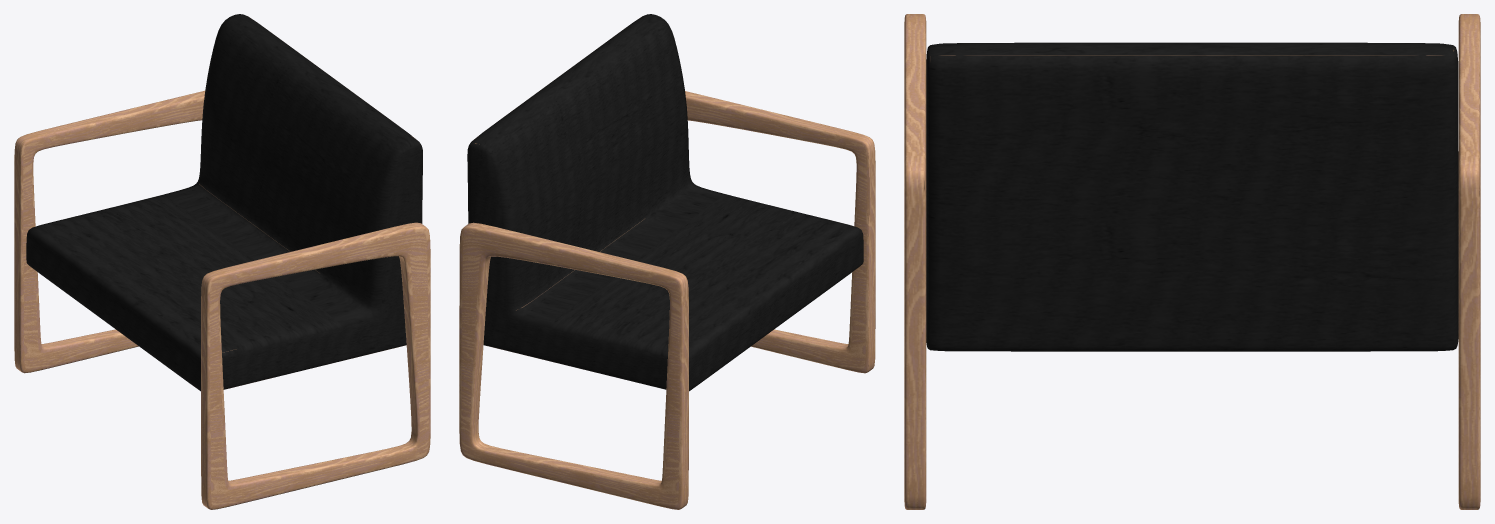
Rendered from blackbeauty.glb.
The picture shows the model from 3 angles, left to right: view 1: azimuth 30°, elevation 25°; view 2: azimuth 150°, elevation 25°; view 3: azimuth 270°, elevation 25°; orthographic projection. The views are drawn at different scales.
Parts seen in each view (by area): view 1: Plane.007_Plane.006; view 2: Plane.007_Plane.006; view 3: Plane.007_Plane.006.
Boxes of the visible parts, x1=… form: Plane.007_Plane.006: x1=14, y1=14, x2=430, y2=509; Plane.007_Plane.006: x1=459, y1=14, x2=875, y2=509; Plane.007_Plane.006: x1=904, y1=14, x2=1480, y2=509.
Size of the model in its own units: 9.47 by 12.46 by 14.04.
1 material, 1 textured.
